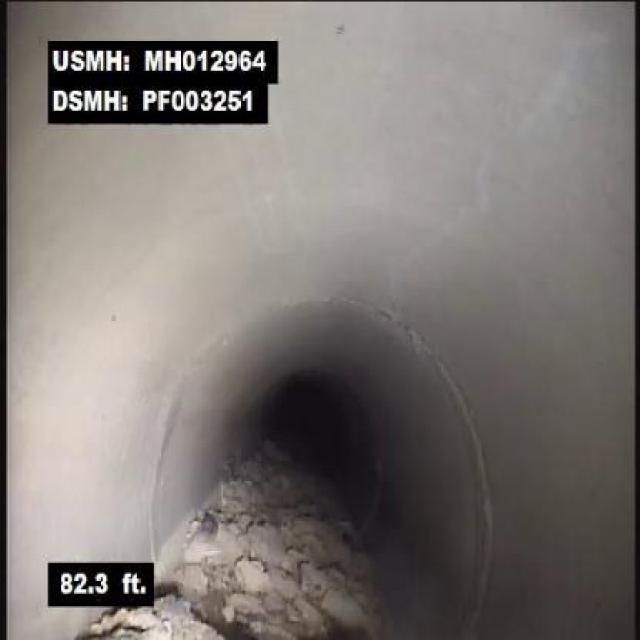Obstacle: (278, 423, 398, 637), (156, 436, 272, 638)
